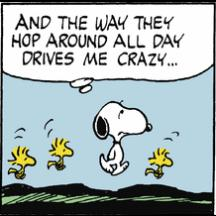snoopy: (93, 99, 153, 176)
